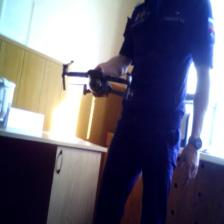drone: (56, 55, 139, 110)
